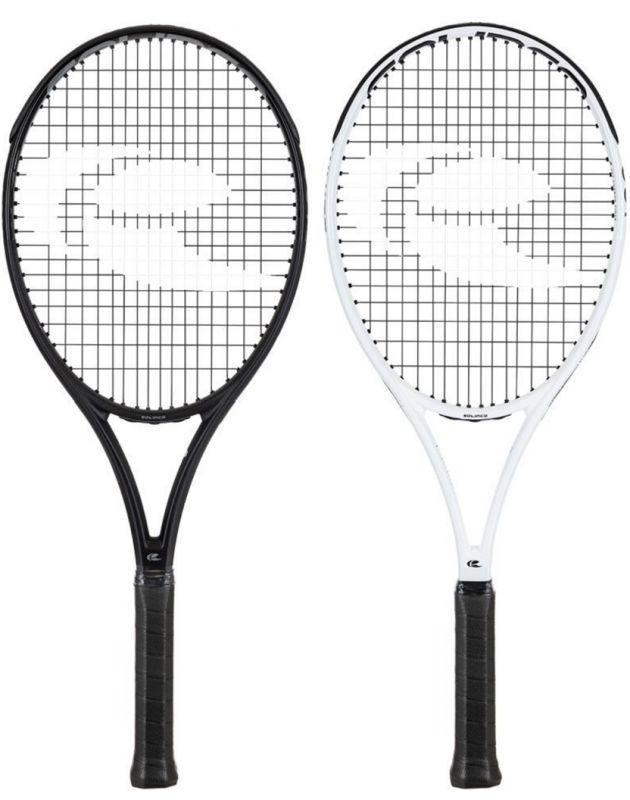Tennis-Racket: (1, 31, 298, 782), (325, 26, 615, 780)
